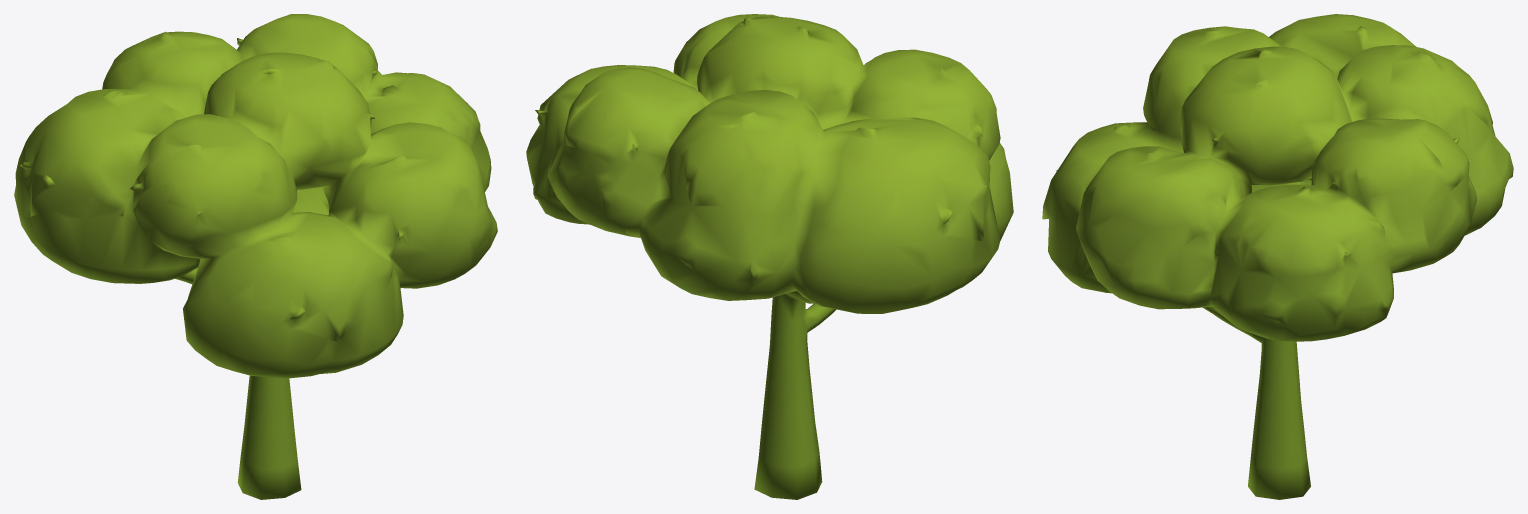
The model's file is bush-round.glb.
The picture shows the model from 3 angles, left to right: view 1: azimuth 30°, elevation 25°; view 2: azimuth 150°, elevation 25°; view 3: azimuth 270°, elevation 25°; orthographic projection. The views are drawn at different scales.
Visible parts, largest first — view 1: tripo_node_kodyurd-model-8_____________________; view 2: tripo_node_kodyurd-model-8_____________________; view 3: tripo_node_kodyurd-model-8_____________________.
Part boxes in pixels (bbox=[...]): tripo_node_kodyurd-model-8_____________________: bbox=[14, 14, 497, 499]; tripo_node_kodyurd-model-8_____________________: bbox=[526, 14, 1013, 499]; tripo_node_kodyurd-model-8_____________________: bbox=[1042, 14, 1513, 499].
Bounding box in the file's own units: 0.998 × 0.9434 × 0.9316.
Materials: 1 (1 with a texture image).
